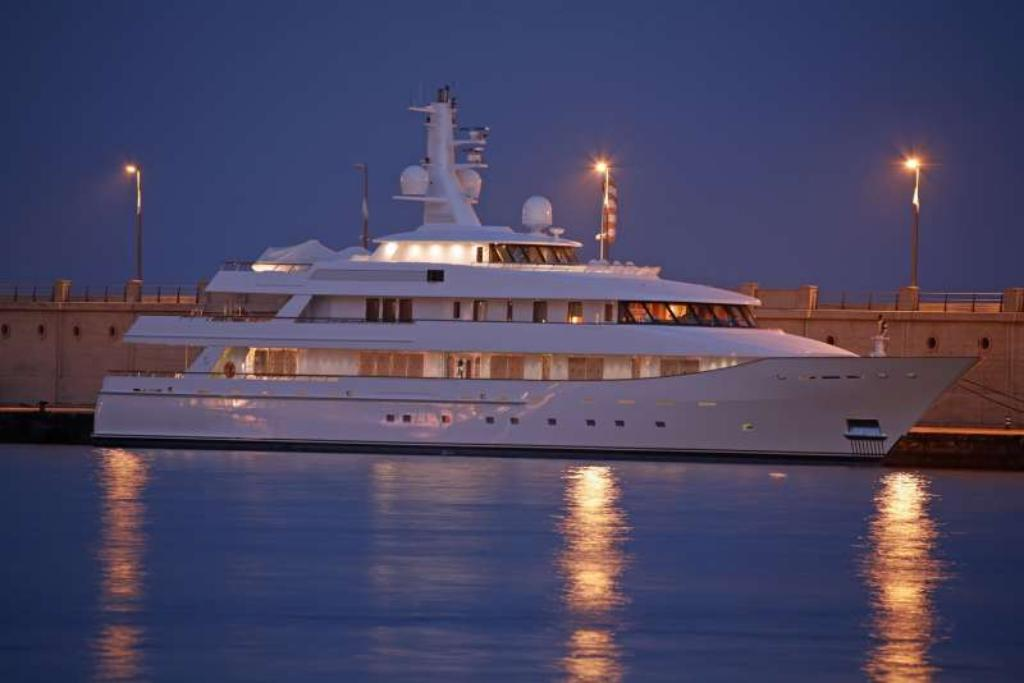PassengerShip: (80, 81, 1002, 457)
